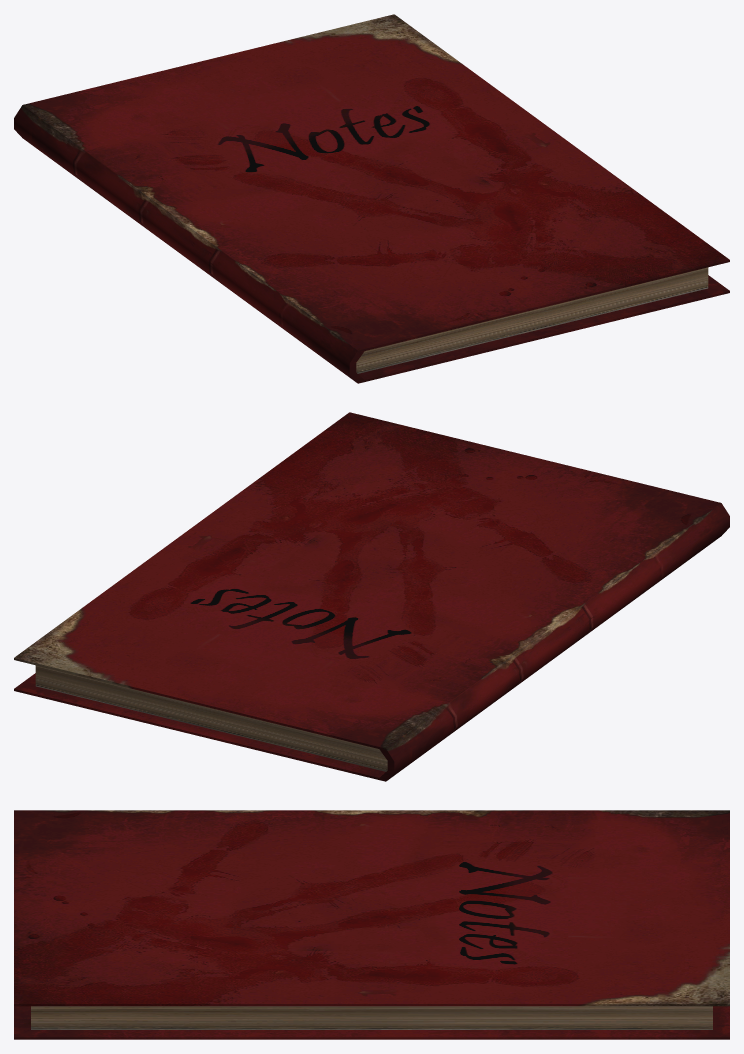
The model's file is Note.FBX.
3 renders of one model, top to bottom at view 1: azimuth 30°, elevation 25°; view 2: azimuth 150°, elevation 25°; view 3: azimuth 270°, elevation 25°, orthographic. The views are drawn at different scales.
Visible parts, largest first — view 1: Book_Closed; view 2: Book_Closed; view 3: Book_Closed.
Part boxes in pixels (bbox=[...]): Book_Closed: bbox=[14, 14, 729, 383]; Book_Closed: bbox=[14, 412, 729, 781]; Book_Closed: bbox=[14, 810, 729, 1039].
Bounding box in the file's own units: 1.7 × 0.1418 × 2.6.
Materials: 1 (1 with a texture image).
